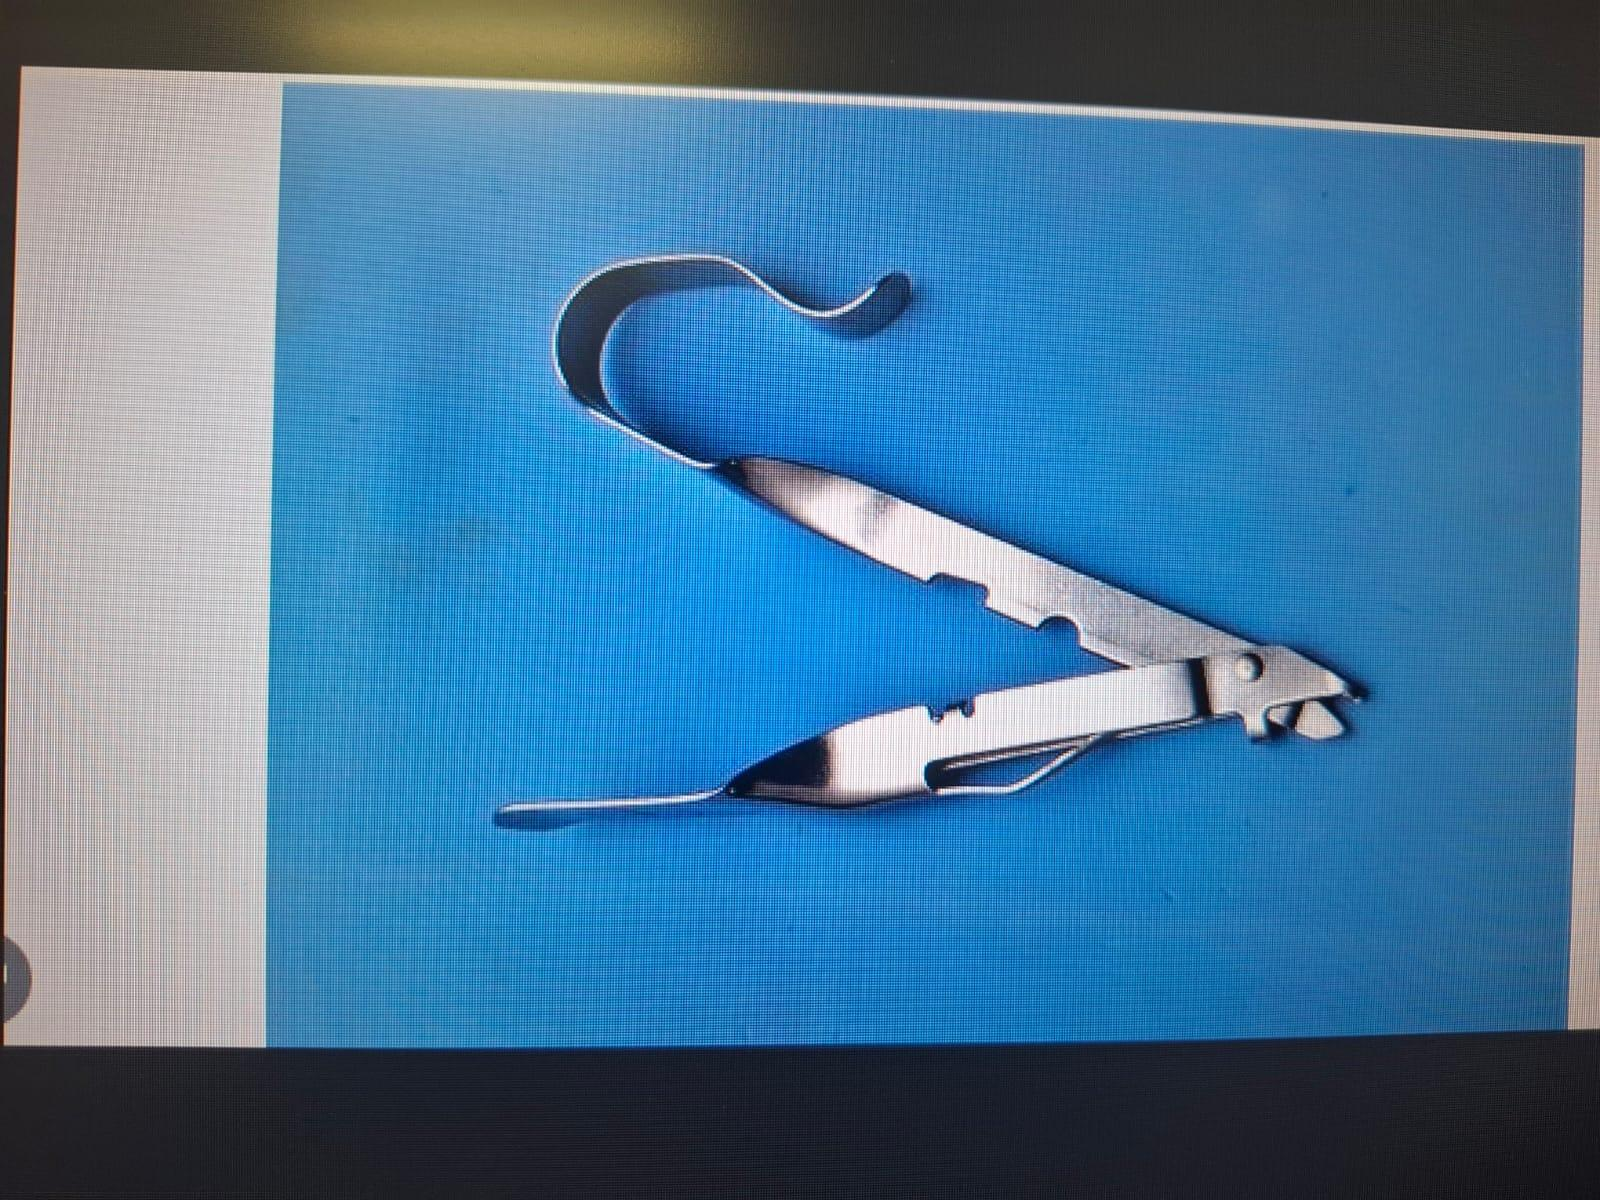Stapler Remover: (472, 218, 1402, 874)
